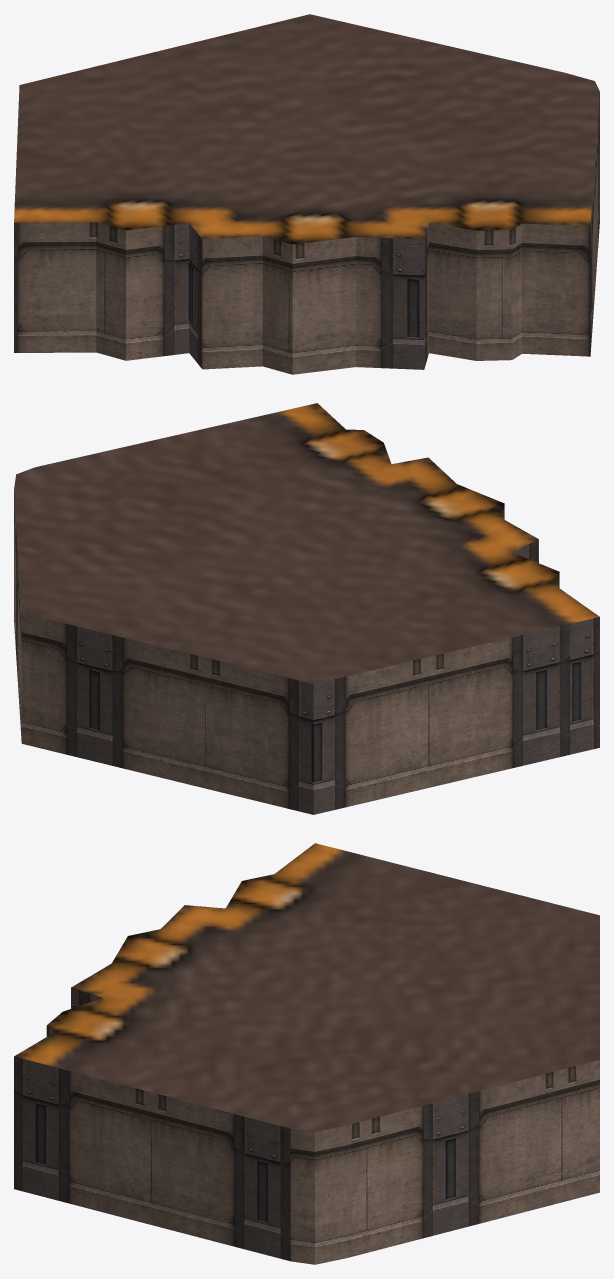
Rendered from heavy_roof39.glb.
3 renders of one model, top to bottom at view 1: azimuth 30°, elevation 25°; view 2: azimuth 150°, elevation 25°; view 3: azimuth 270°, elevation 25°, orthographic.
Parts seen in each view (by area): view 1: buildings/saxarba/heavy/heavy_roof39; view 2: buildings/saxarba/heavy/heavy_roof39; view 3: buildings/saxarba/heavy/heavy_roof39.
Part boxes in pixels (x1=…): buildings/saxarba/heavy/heavy_roof39: x1=14, y1=14, x2=599, y2=374; buildings/saxarba/heavy/heavy_roof39: x1=14, y1=403, x2=599, y2=814; buildings/saxarba/heavy/heavy_roof39: x1=14, y1=843, x2=599, y2=1264.
Size of the model in its own units: 84 by 18 by 72.
